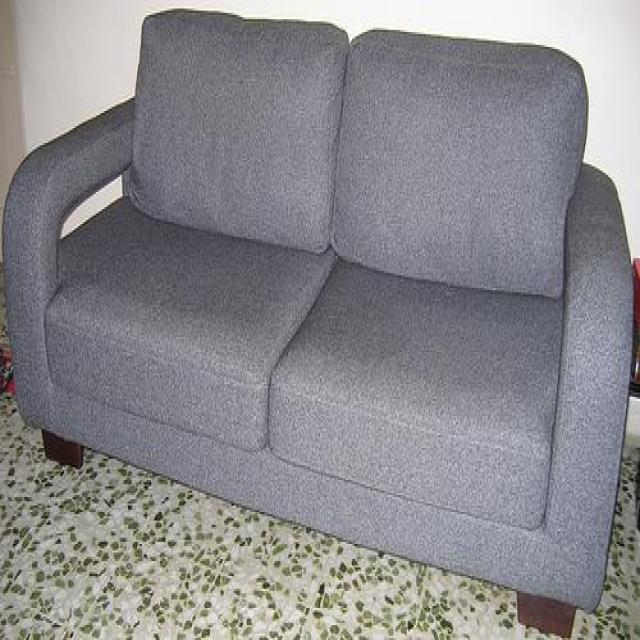sofa: (1, 6, 634, 621)
